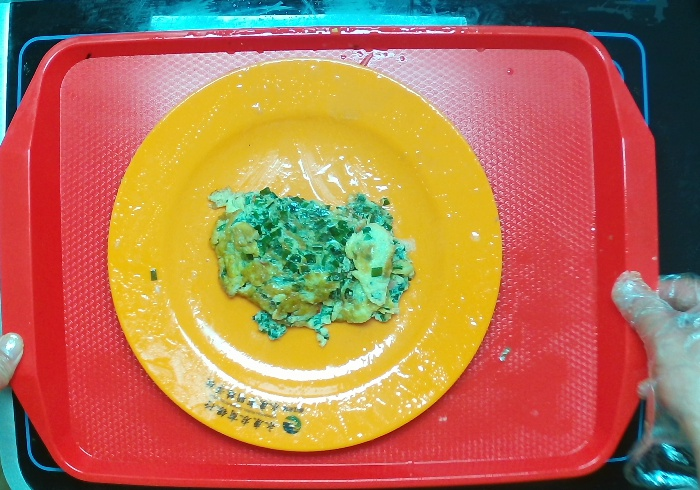YKMZ-Ju_Se_Mian_Pan: (102, 57, 505, 451)
